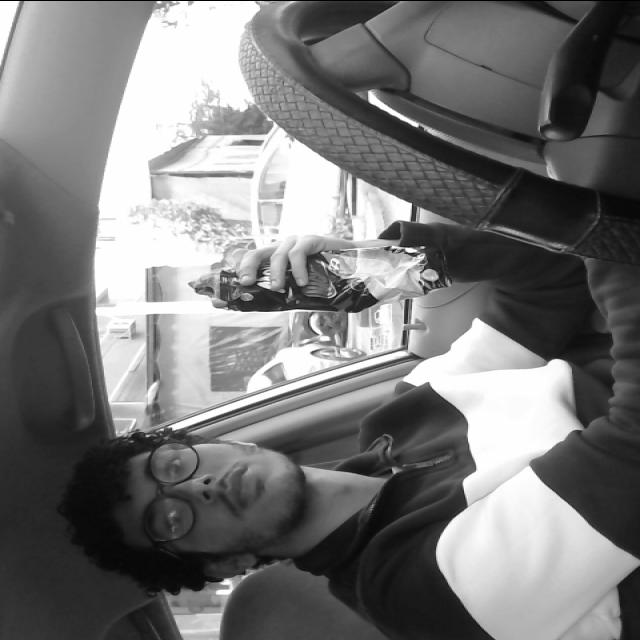eating: (172, 231, 462, 320)
